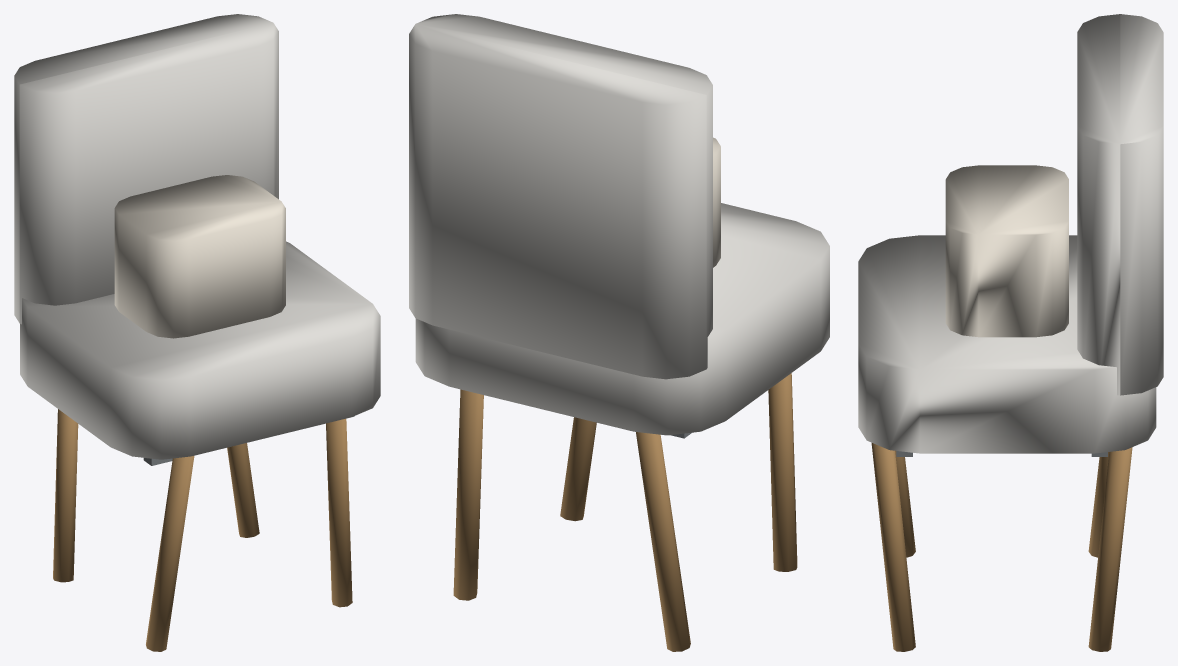
3 views of the same model, side by side, from view 1: azimuth 30°, elevation 25°; view 2: azimuth 150°, elevation 25°; view 3: azimuth 270°, elevation 25° (orthographic). The views are drawn at different scales.
Visible parts, largest first — view 1: root; view 2: root; view 3: root.
Part boxes in pixels (x1,y1,x2,y2): root: (14,14,380,651); root: (409,14,829,651); root: (858,14,1163,651).
Bounding box in the file's own units: 0.4724 × 0.8557 × 0.4526.
